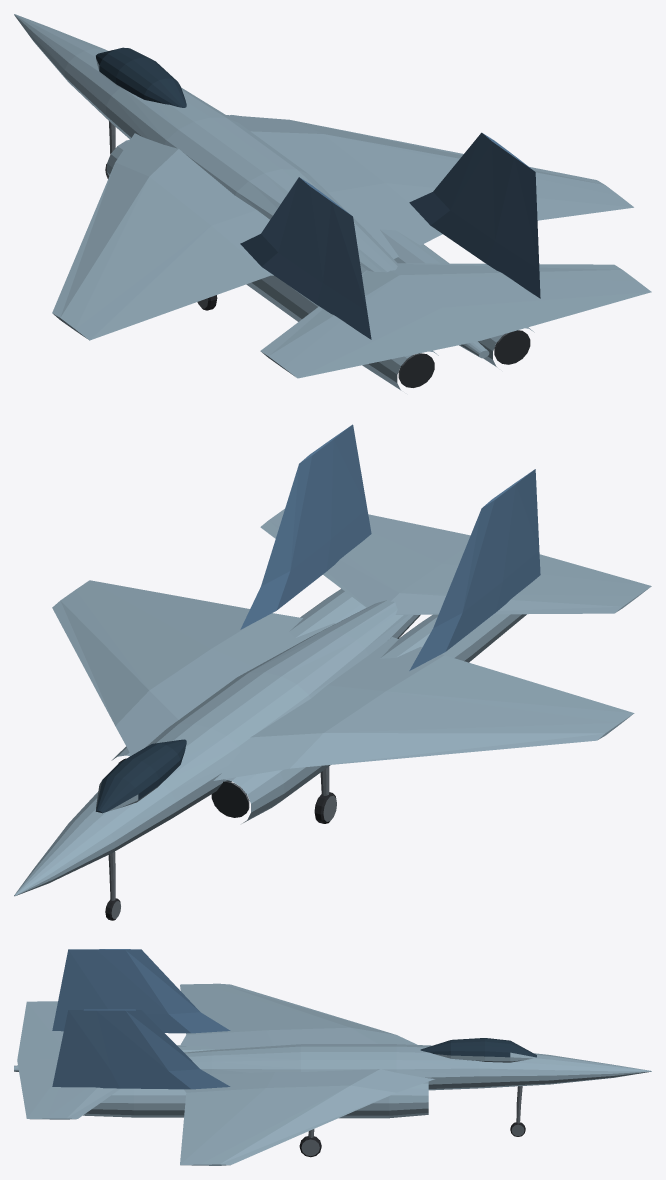
3 views of the same model, one above another, from view 1: azimuth 30°, elevation 25°; view 2: azimuth 150°, elevation 25°; view 3: azimuth 270°, elevation 25° (orthographic). The views are drawn at different scales.
Parts seen in each view (by area): view 1: airframe; view 2: airframe, gear; view 3: airframe, gear.
Part boxes in pixels (x1,y1,x2,y2): airframe: [14, 14, 651, 390]; airframe: [14, 424, 651, 896]; gear: [105, 766, 336, 920]; airframe: [14, 949, 651, 1165]; gear: [299, 1086, 525, 1157].
Size of the model in its own units: 14.7 by 5.95 by 21.94.
